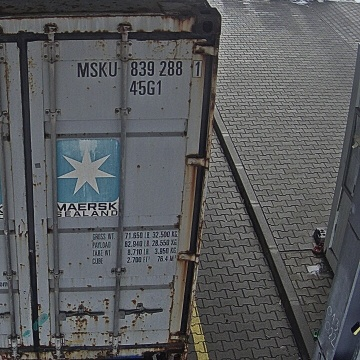serial_id: (78, 61, 200, 77)
